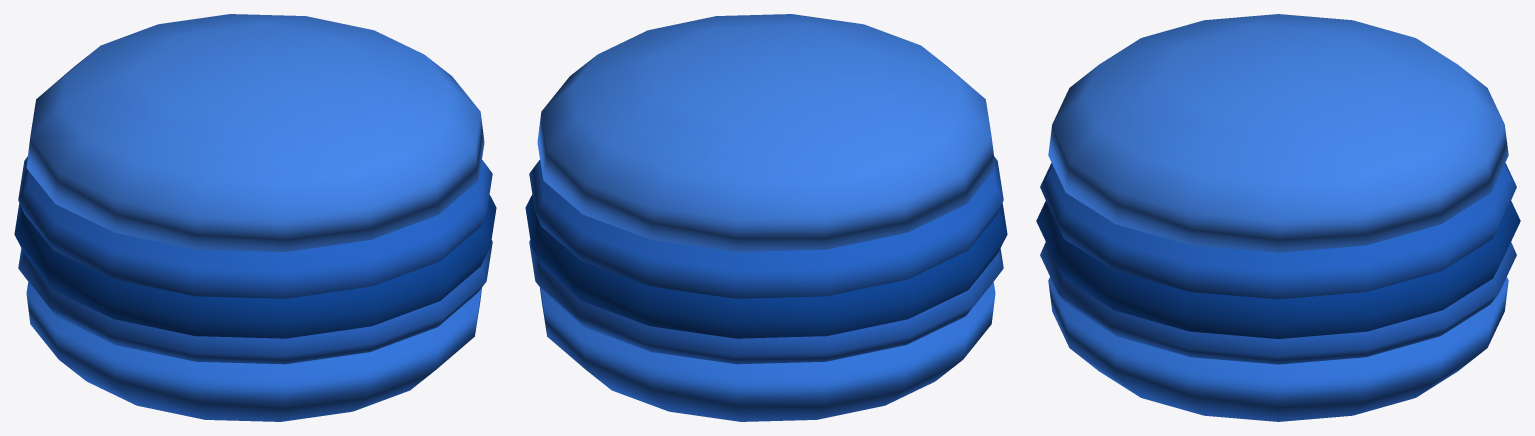
Rendered from Cookie_03.glb.
The picture shows the model from 3 angles, left to right: view 1: azimuth 30°, elevation 25°; view 2: azimuth 150°, elevation 25°; view 3: azimuth 270°, elevation 25°; orthographic projection.
Parts seen in each view (by area): view 1: Cookie_03; view 2: Cookie_03; view 3: Cookie_03.
Boxes of the visible parts, x1=… form: Cookie_03: x1=14, y1=14, x2=496, y2=421; Cookie_03: x1=525, y1=14, x2=1007, y2=421; Cookie_03: x1=1036, y1=14, x2=1520, y2=421.
Size of the model in its own units: 2.05 by 1.44 by 2.05.
Materials: 1 (1 with a texture image).
